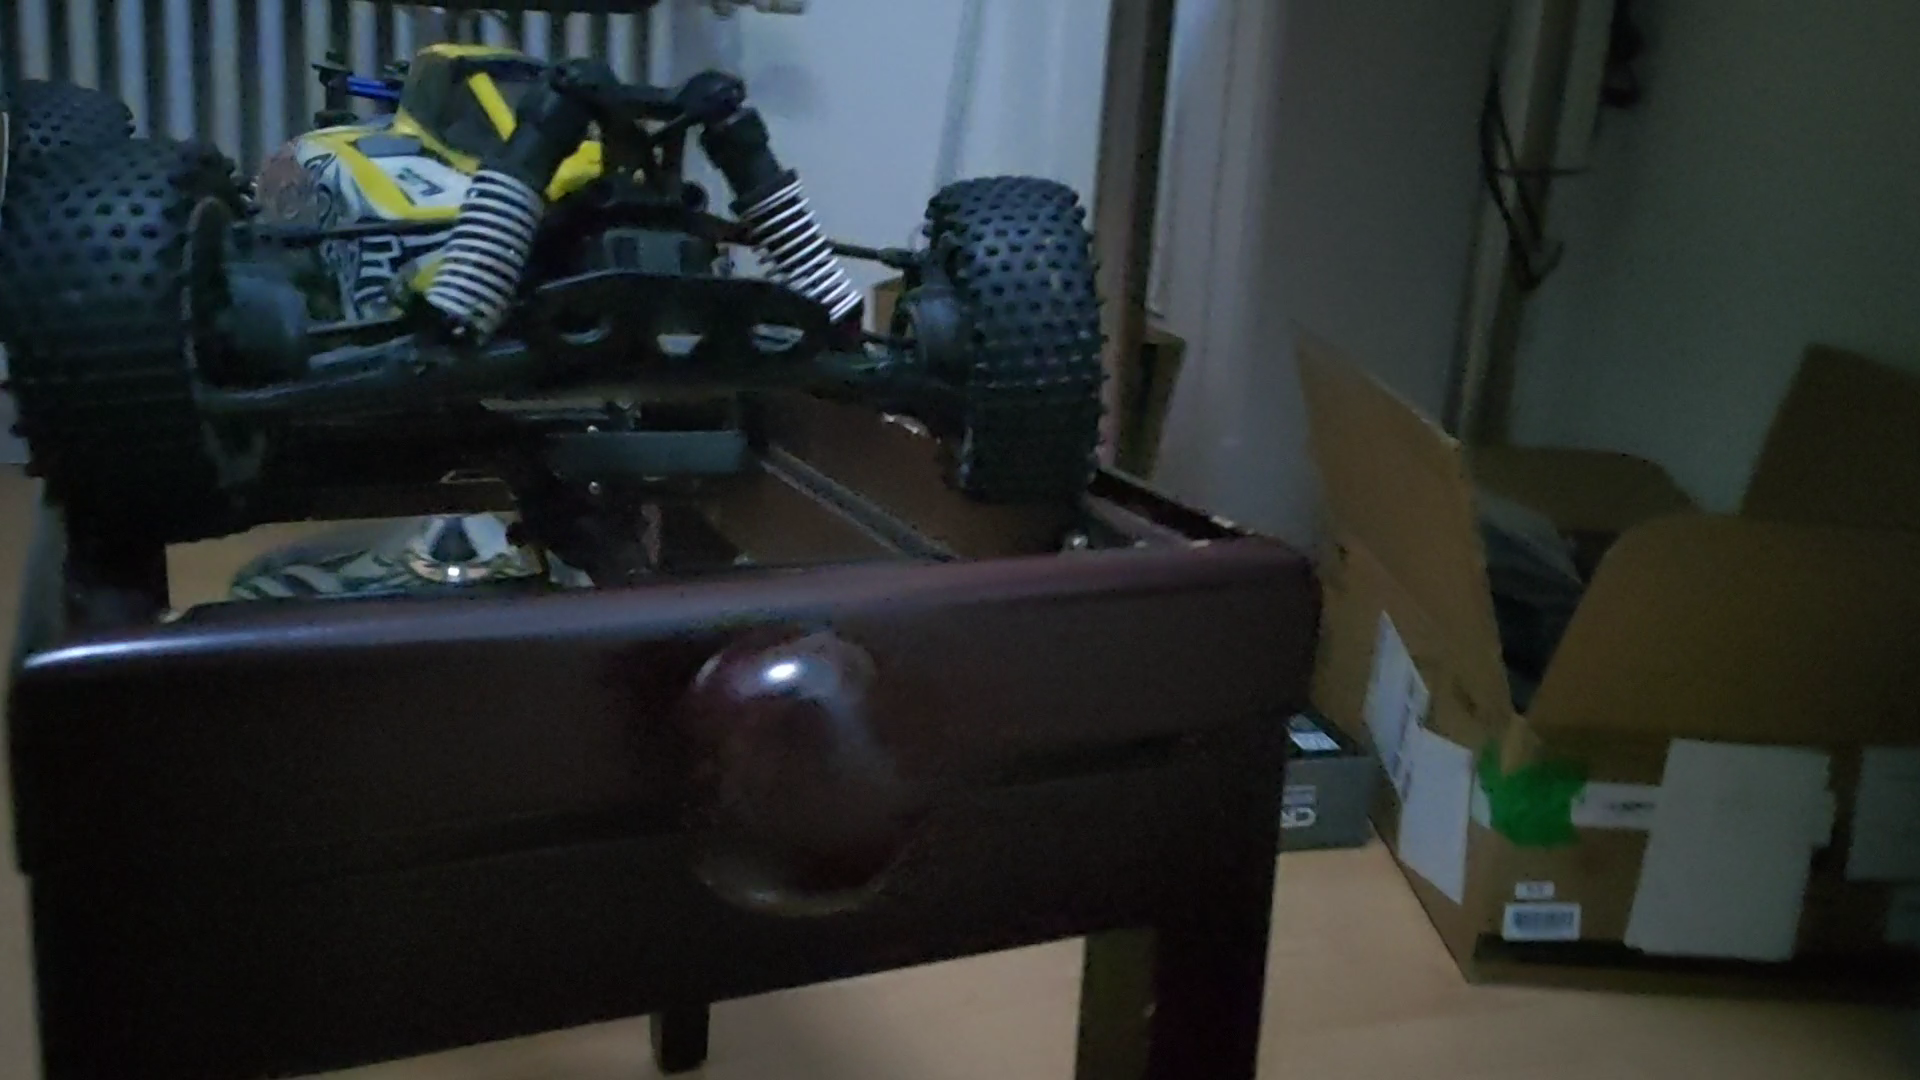buggy: (1, 42, 1093, 555)
